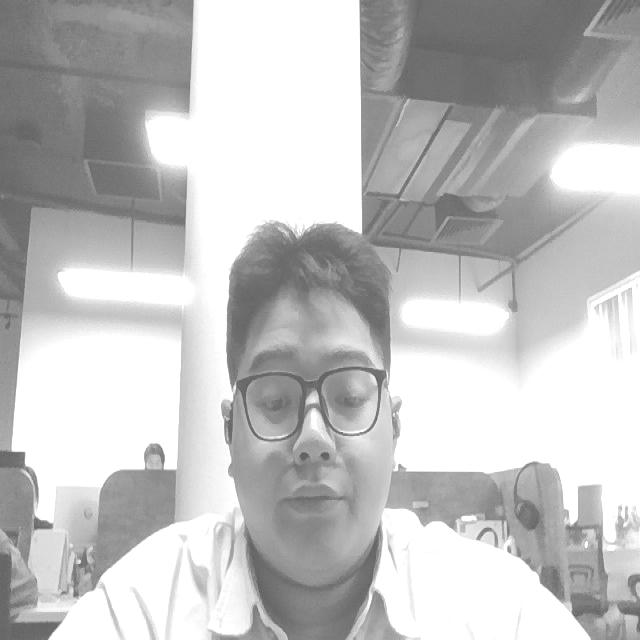real: (219, 212, 406, 595), (227, 372, 393, 423)
